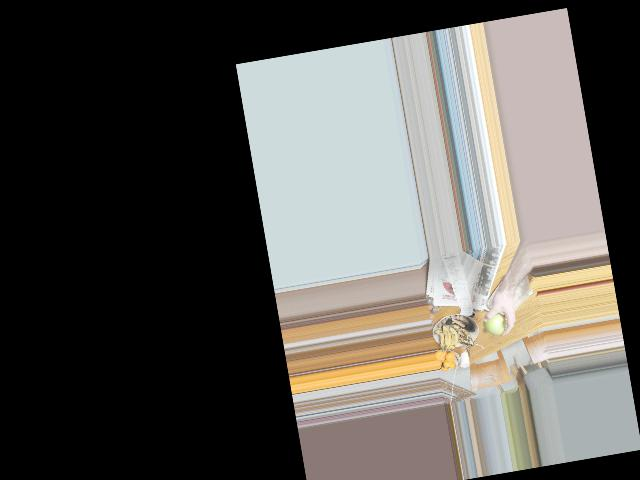apple: (483, 310, 507, 337)
